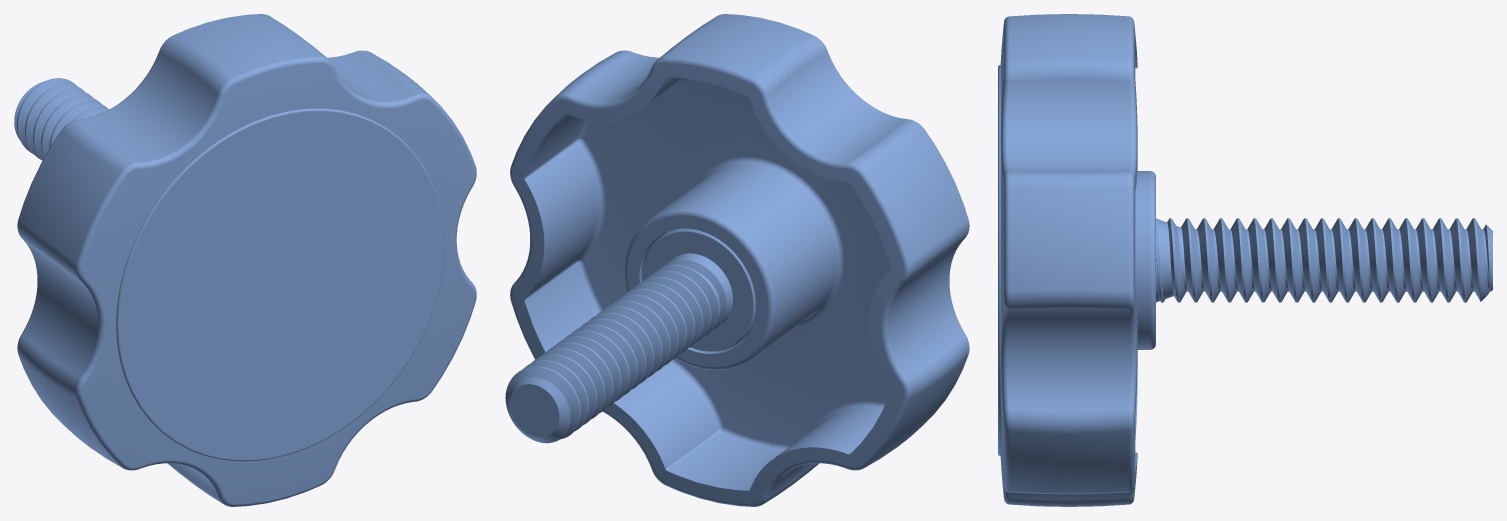
Rendered from Boss_Extrude4.gltf.
3 renders of one model, left to right at view 1: azimuth 30°, elevation 25°; view 2: azimuth 150°, elevation 25°; view 3: azimuth 270°, elevation 25°, orthographic. The views are drawn at different scales.
Visible parts, largest first — view 1: mesh54148, mesh54146, mesh54140, mesh54129, mesh54117, mesh54138, mesh54002, mesh54147, mesh54126, mesh54079, mesh54142, mesh54135 (+10 smaller); view 2: mesh54012, mesh54073, mesh54001, mesh54010, mesh54140, mesh54129, mesh54058, mesh54117, mesh54038, mesh54138, mesh54003, mesh54008 (+28 smaller); view 3: mesh54105, mesh54114, mesh54126, mesh54001, mesh54002, mesh54099, mesh54138, mesh53998, mesh53999, mesh54102, mesh54010, mesh54132 (+15 smaller).
Part boxes in pixels (x1,y1,x2,y2): mesh54148: (119,111,443,459); mesh54146: (82,63,474,503); mesh54140: (81,52,217,161); mesh54129: (19,130,119,262); mesh54117: (23,239,98,377); mesh54138: (175,14,319,77); mesh54002: (14,79,108,160); mesh54147: (116,108,444,461); mesh54126: (328,52,413,101); mesh54079: (19,356,119,465); mesh54142: (160,35,231,93); mesh54135: (63,119,137,172); mesh54012: (584,79,890,445); mesh54073: (512,63,904,503); mesh54001: (505,253,726,439); mesh54010: (653,164,836,356); mesh54140: (769,52,905,161); mesh54129: (867,130,967,262); mesh54058: (525,143,598,297); mesh54117: (888,239,963,377); mesh54038: (614,364,716,468); mesh54138: (667,14,811,77); mesh54003: (642,231,753,350); mesh54008: (627,216,767,366); mesh54105: (1007,308,1130,410); mesh54114: (1009,187,1128,290); mesh54126: (1007,79,1130,171); mesh54001: (1156,219,1489,302); mesh54002: (1156,218,1490,301); mesh54099: (1009,431,1128,492); mesh54138: (1009,14,1128,60); mesh53998: (1156,218,1480,302); mesh53999: (1186,229,1491,291); mesh54102: (1009,408,1128,433); mesh54010: (1135,171,1150,349); mesh54132: (1009,58,1128,81).
Size of the model in its own units: 0.0363 by 0.0381 by 0.0373.
